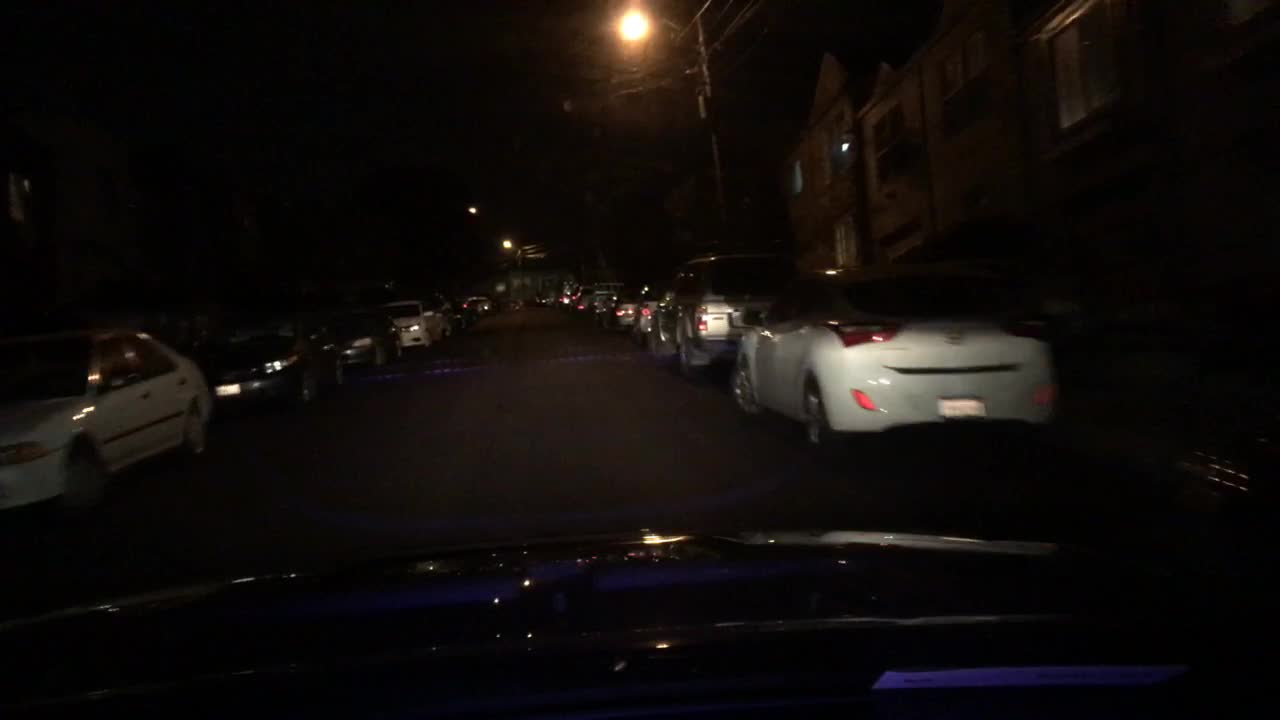car: (728, 263, 1058, 452), (0, 325, 214, 515), (647, 256, 800, 384), (1173, 436, 1278, 611), (191, 320, 345, 405), (294, 314, 396, 387), (379, 296, 452, 352), (589, 280, 654, 331), (629, 275, 674, 346), (434, 292, 467, 329), (553, 276, 579, 310), (566, 283, 593, 312), (460, 296, 492, 315), (534, 285, 560, 307), (496, 296, 523, 311)
